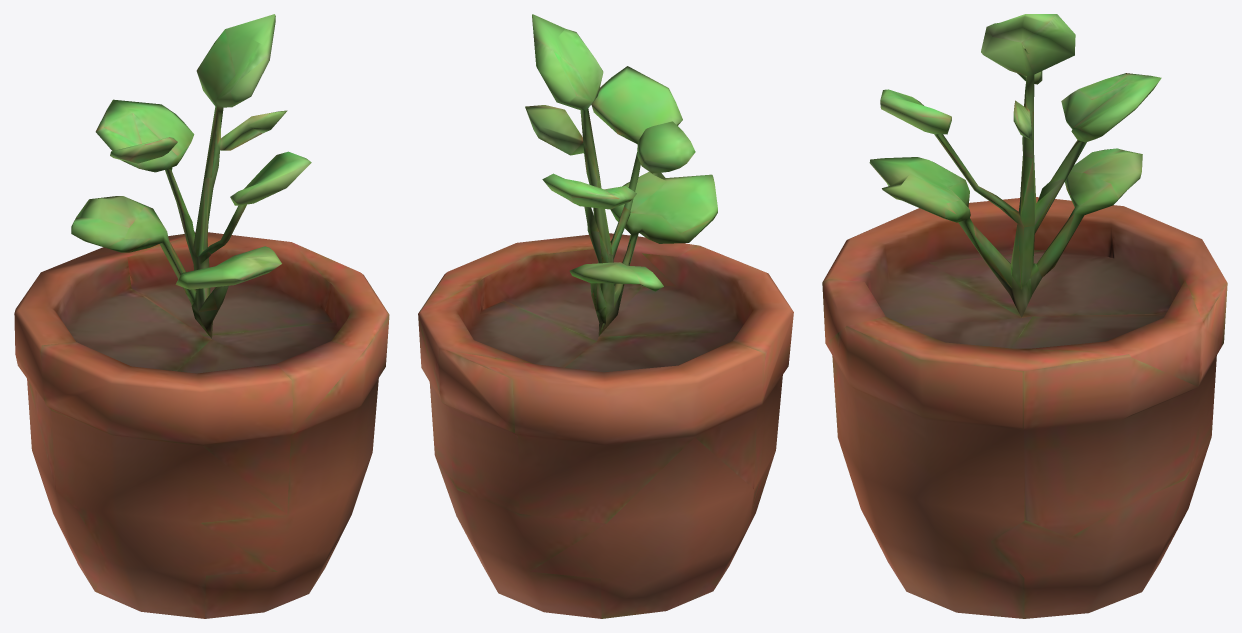
File: prop3d-planter.glb
3 renders of one model, left to right at view 1: azimuth 30°, elevation 25°; view 2: azimuth 150°, elevation 25°; view 3: azimuth 270°, elevation 25°, orthographic. The views are drawn at different scales.
Size of the model in its own units: 1.26 by 2 by 1.25.
1 material, 1 textured.
